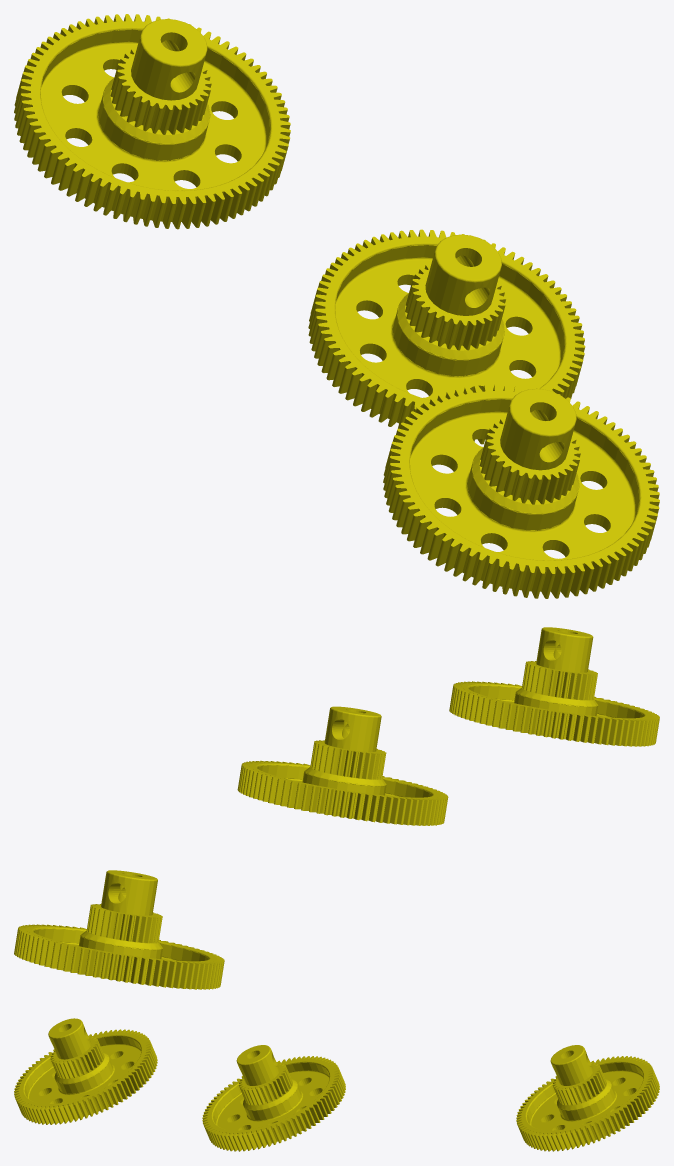
File: 5_guest.glb
3 renders of one model, top to bottom at view 1: azimuth 30°, elevation 25°; view 2: azimuth 150°, elevation 25°; view 3: azimuth 270°, elevation 25°, orthographic. The views are drawn at different scales.
Parts seen in each view (by area): view 1: BanhRang_2Tang_Nho (×3); view 2: BanhRang_2Tang_Nho (×3); view 3: BanhRang_2Tang_Nho (×3).
Boxes of the visible parts, x1,y1,x2,y2 form: BanhRang_2Tang_Nho (×3): (14,14,659,598); BanhRang_2Tang_Nho (×3): (14,627,659,989); BanhRang_2Tang_Nho (×3): (14,1018,659,1151).
Bounding box in the file's own units: 1.67 × 0.7618 × 5.15.
